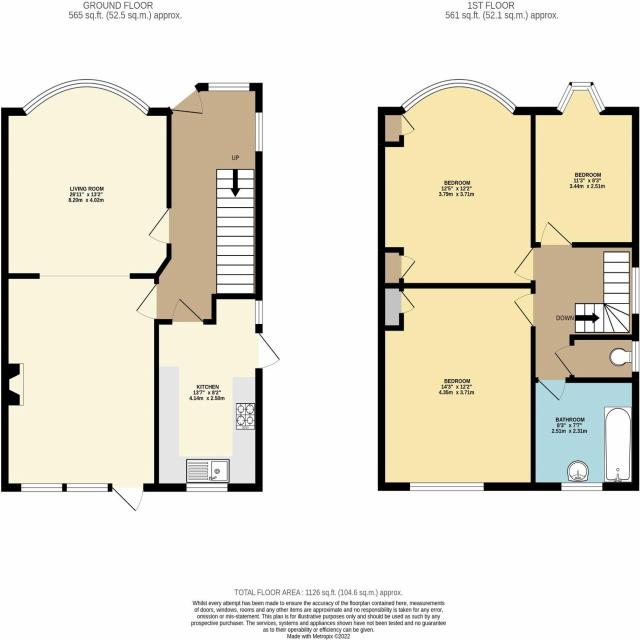DOOR: (254, 329, 285, 375), (537, 216, 575, 249), (110, 482, 148, 514), (167, 85, 205, 115), (146, 204, 172, 246), (170, 296, 206, 325), (134, 282, 159, 321), (512, 245, 536, 283), (512, 291, 536, 328), (535, 377, 569, 403), (552, 344, 575, 375)
ROOM: (1, 79, 172, 520), (377, 72, 536, 289), (377, 281, 535, 492), (153, 291, 289, 491), (530, 76, 639, 248)
WINDOW: (19, 76, 153, 118), (397, 75, 520, 117), (554, 78, 609, 118), (406, 480, 484, 494), (184, 479, 229, 493), (19, 482, 63, 494), (560, 481, 604, 493), (208, 81, 251, 93), (66, 482, 108, 493), (254, 110, 264, 153), (254, 299, 264, 326)
